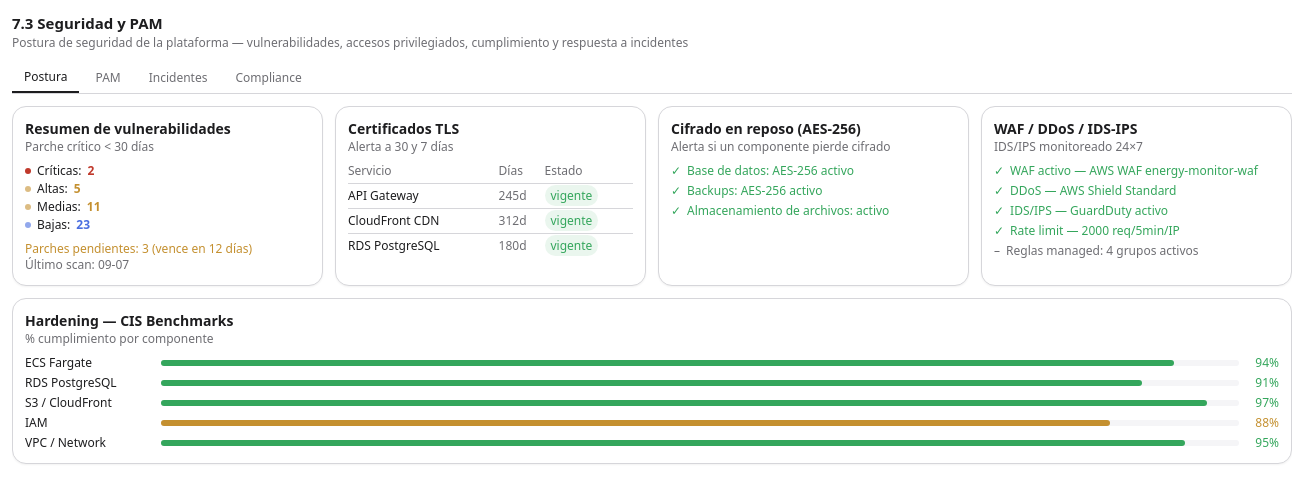
Scenario: SeguridadPamPage › opens JIT form on button click
The image size is (1292, 481).
Click the button "PAM": (108, 78) [84,62,133,92]
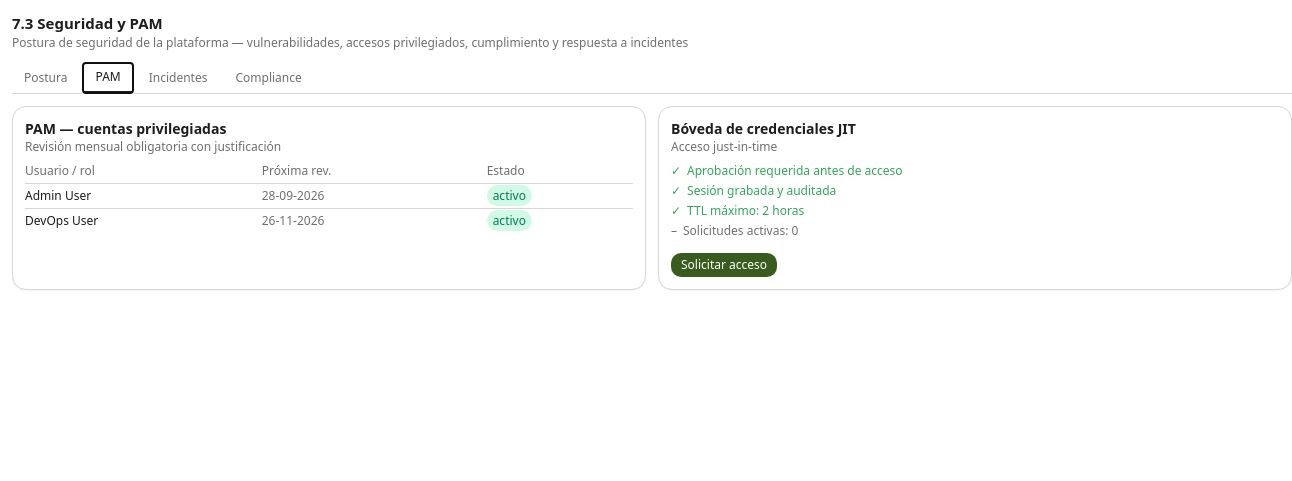
Click the button "Solicitar acceso": (724, 264) [671,252,777,276]
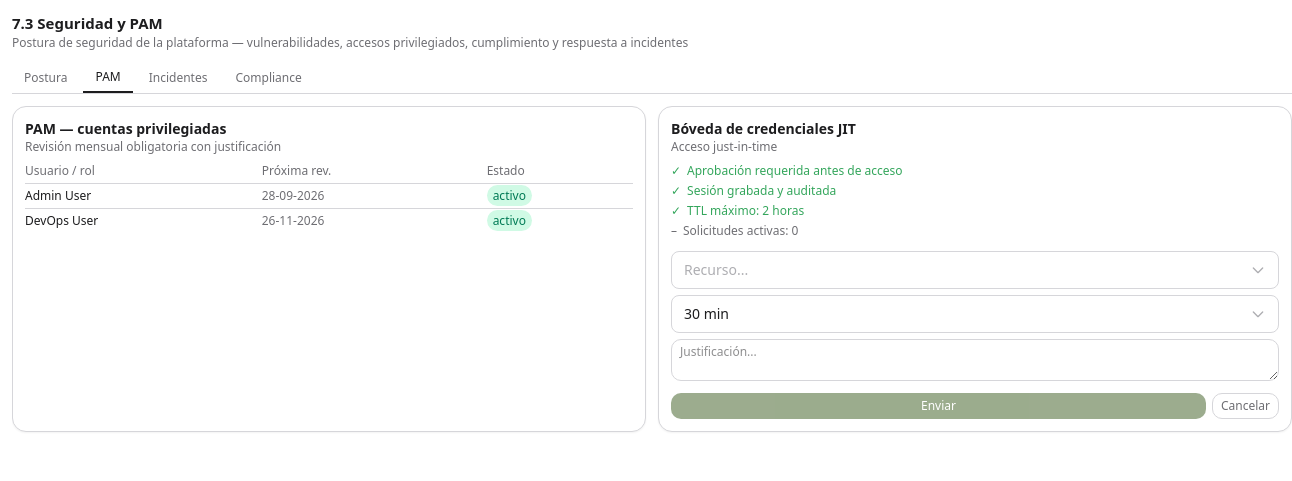
Check: the text box with placeholder "Justificación..." is shown, box [671,338,1279,380]
Check: the button "Enviar" is shown, box [671,392,1206,418]
